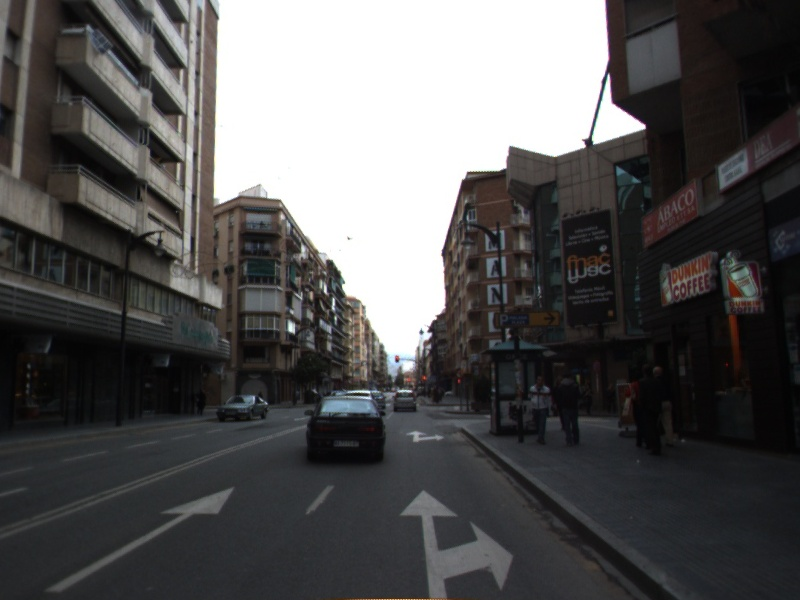STRAIGHT: (42, 485, 236, 595)
STRAIGHT_RIGHT: (397, 488, 515, 600), (404, 429, 447, 444)
